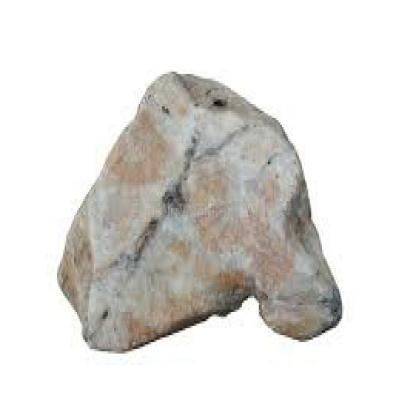Metamorphic_Marble: (50, 60, 361, 358)
